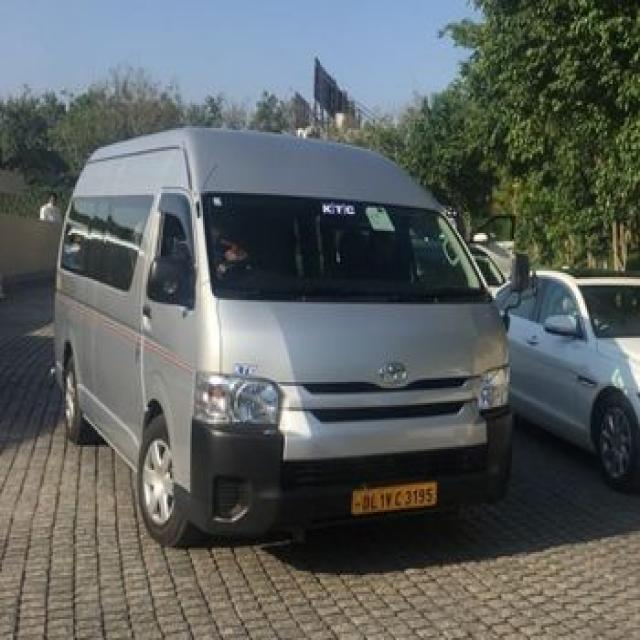bus: (55, 128, 529, 545)
car: (510, 271, 640, 490)
